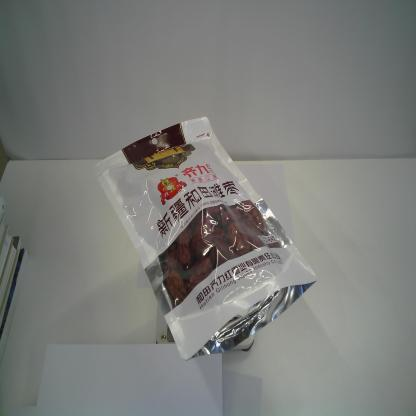Dried Food: (91, 115, 318, 364)
